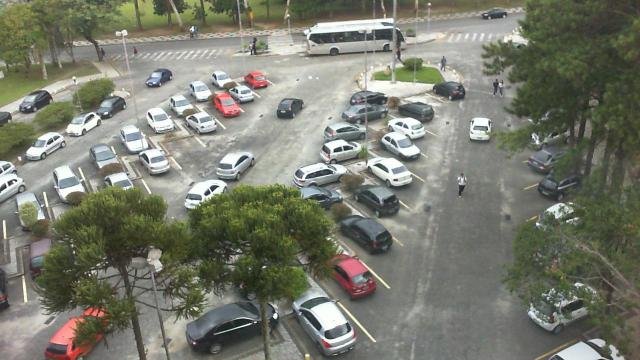empty: (162, 126, 200, 162), (405, 87, 451, 111)
occupied: (188, 295, 282, 355), (289, 286, 363, 354), (315, 253, 391, 315), (333, 214, 399, 270), (351, 184, 412, 228), (358, 157, 417, 195), (43, 156, 89, 204), (76, 132, 124, 176), (291, 160, 353, 194), (374, 133, 430, 167), (132, 146, 176, 187), (108, 115, 152, 156), (317, 135, 371, 163), (319, 118, 375, 144), (384, 114, 434, 142), (182, 107, 222, 141), (138, 105, 178, 138), (342, 102, 392, 126), (395, 100, 443, 124), (207, 95, 246, 123), (162, 89, 198, 119), (200, 64, 236, 94), (222, 78, 260, 106), (345, 86, 393, 108), (184, 78, 218, 106), (241, 68, 273, 94)
